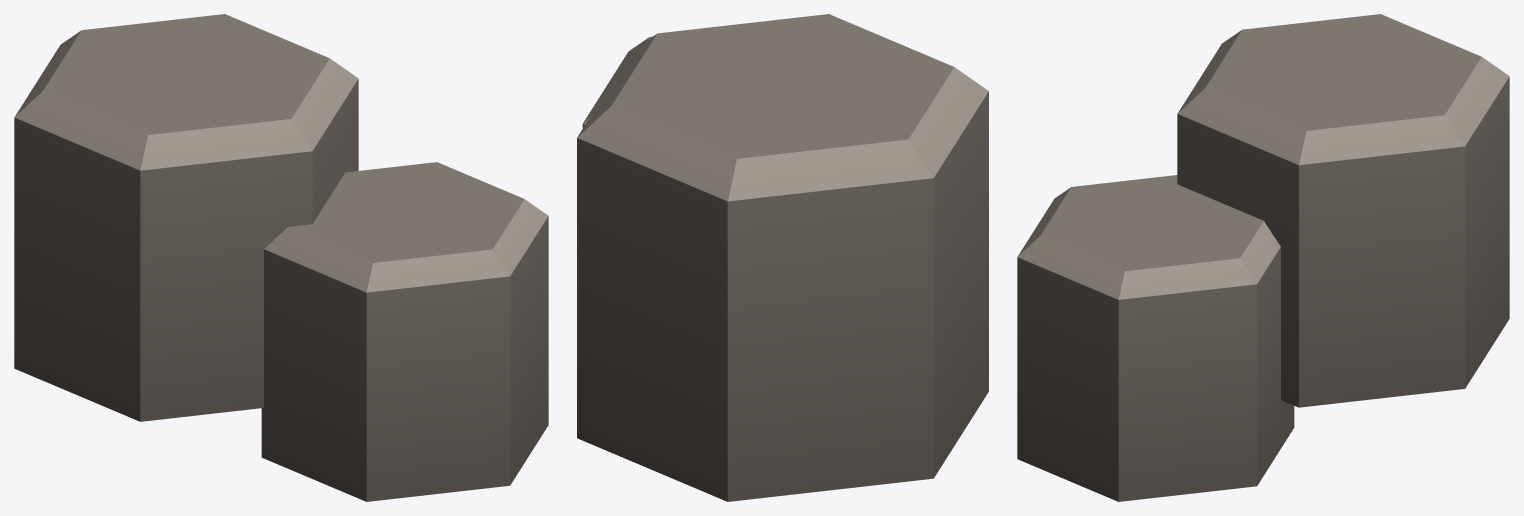
File: stone01.fbx
The picture shows the model from 3 angles, left to right: view 1: azimuth 30°, elevation 25°; view 2: azimuth 150°, elevation 25°; view 3: azimuth 270°, elevation 25°; orthographic projection. The views are drawn at different scales.
Parts seen in each view (by area): view 1: Cylinder.039; view 2: Cylinder.039; view 3: Cylinder.039.
Part boxes in pixels (x1,y1,x2,y2): Cylinder.039: [14, 14, 548, 501]; Cylinder.039: [577, 14, 988, 501]; Cylinder.039: [1017, 14, 1509, 501].
Size of the model in its own units: 184 by 145 by 206.
